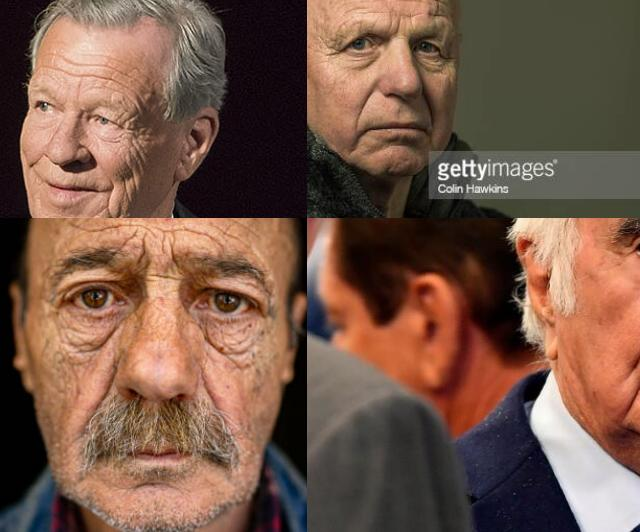chin: (129, 479, 187, 497)
crows_feet: (123, 110, 141, 146), (324, 39, 342, 58), (438, 49, 452, 69)
forehead: (92, 55, 140, 95), (190, 218, 256, 241), (64, 218, 131, 238), (46, 52, 84, 79), (427, 0, 447, 25), (144, 218, 180, 230), (343, 0, 368, 13), (381, 0, 424, 6)
frown_line: (140, 236, 180, 276), (389, 14, 406, 40)
gummy_smile: (100, 361, 118, 409), (420, 88, 440, 130), (352, 83, 373, 121), (199, 372, 219, 408), (631, 304, 640, 360), (25, 152, 43, 168)
masseter: (120, 160, 142, 200)
sad_smile: (623, 376, 640, 422), (101, 183, 118, 218), (350, 130, 362, 158)
